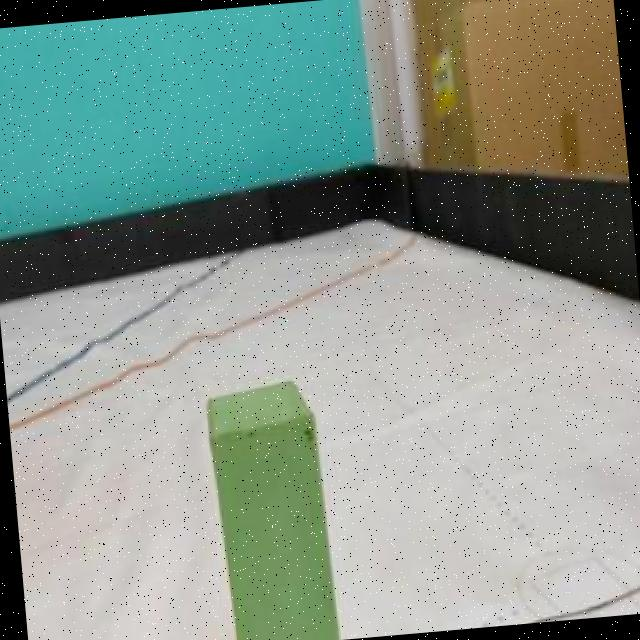greenbox: (198, 372, 335, 640)
